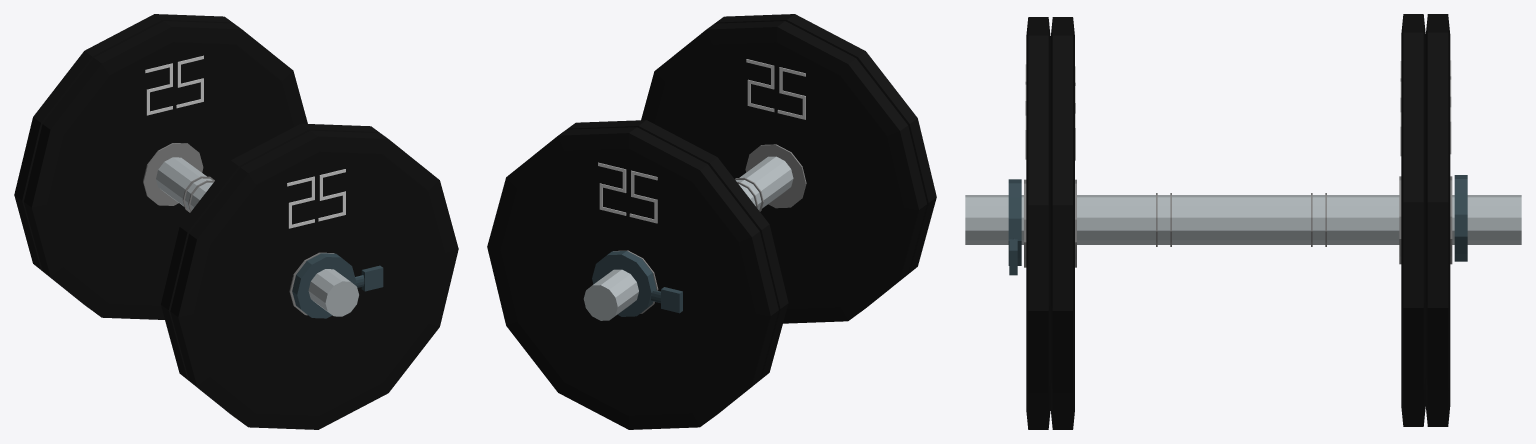
File: dumbbell.gltf
3 renders of one model, left to right at view 1: azimuth 30°, elevation 25°; view 2: azimuth 150°, elevation 25°; view 3: azimuth 270°, elevation 25°, orthographic. The views are drawn at different scales.
Parts seen in each view (by area): view 1: node_MeshObject1984011904-PolyPaper17; view 2: node_MeshObject1984011904-PolyPaper17; view 3: node_MeshObject1984011904-PolyPaper17.
Boxes of the visible parts, x1=… form: node_MeshObject1984011904-PolyPaper17: x1=14, y1=14, x2=458, y2=429; node_MeshObject1984011904-PolyPaper17: x1=487, y1=14, x2=936, y2=429; node_MeshObject1984011904-PolyPaper17: x1=965, y1=14, x2=1521, y2=429.
Bounding box in the file's own units: 0.305 × 0.3075 × 0.4095.
